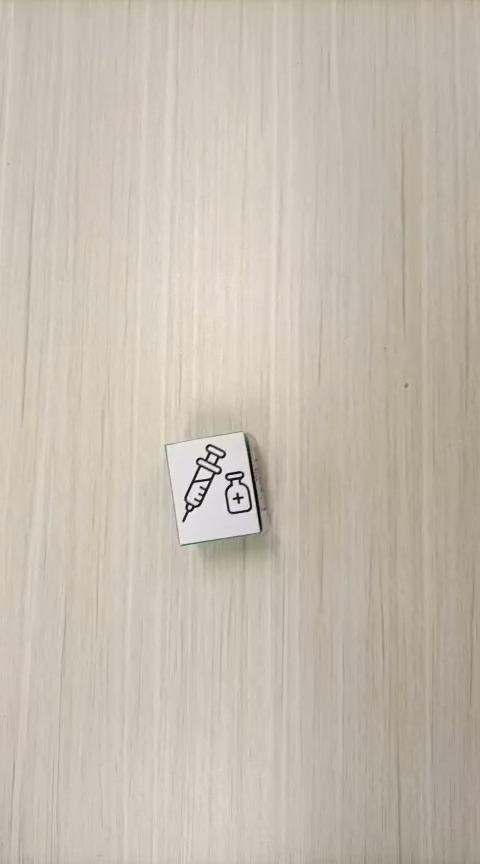antiseptic cream: (164, 427, 270, 551)
